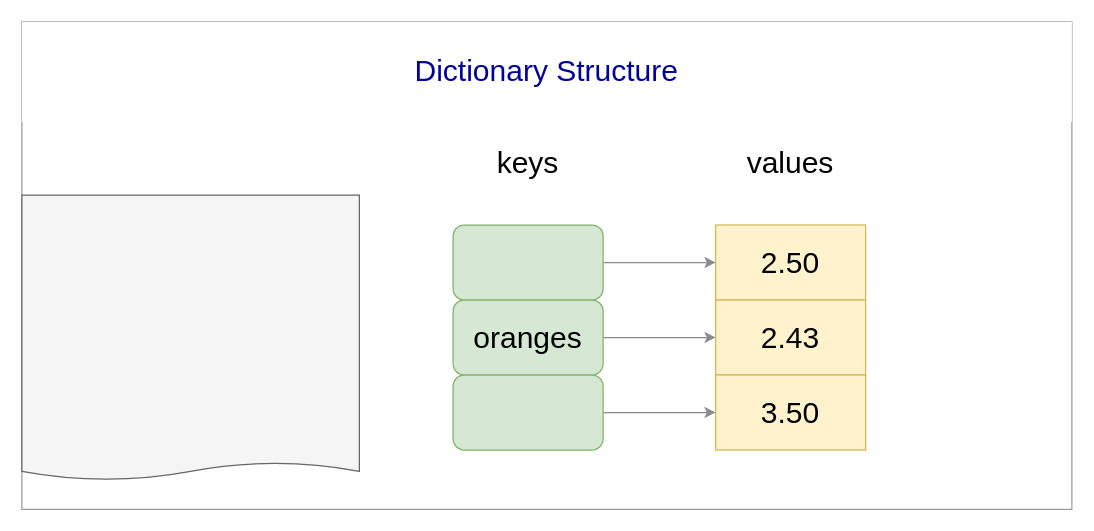
Image size: 1094x531. Some labels were removed from this diagram. The centre of each missing label's shape, as x and y in pixels:
apples: point 527,262
bananas: point 527,412
prises = { "aples": 2.50, "oranges": 2.43, "bananas": 3.50 }: point 190,337
